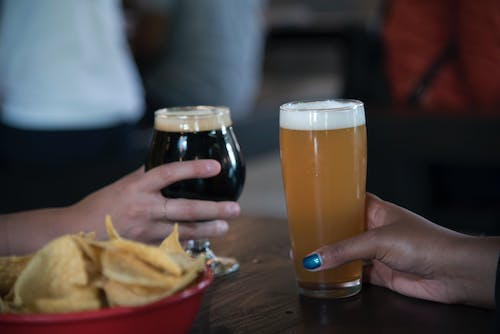alcohol: (278, 98, 368, 300), (144, 104, 246, 278)
